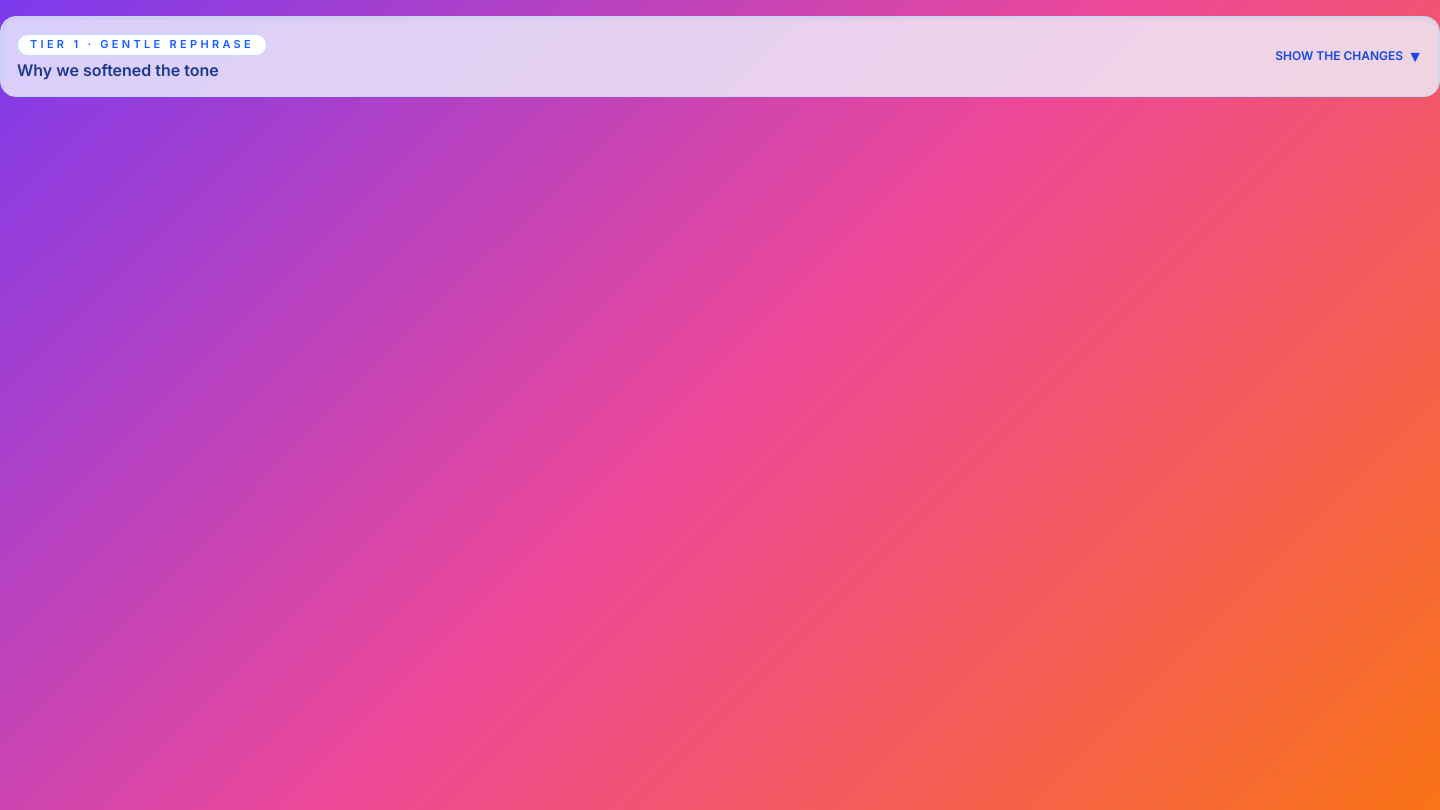
Test: ReframeExplanation › shows the English tier label and explanation
Expected: the text "Tier 1 · Gentle rephrase" is shown, [17,34,267,56]
Expected: the text "Why we softened the tone" is shown, [17,60,219,80]
Click the heading.
click(142, 45)  # box [17,33,1423,80]
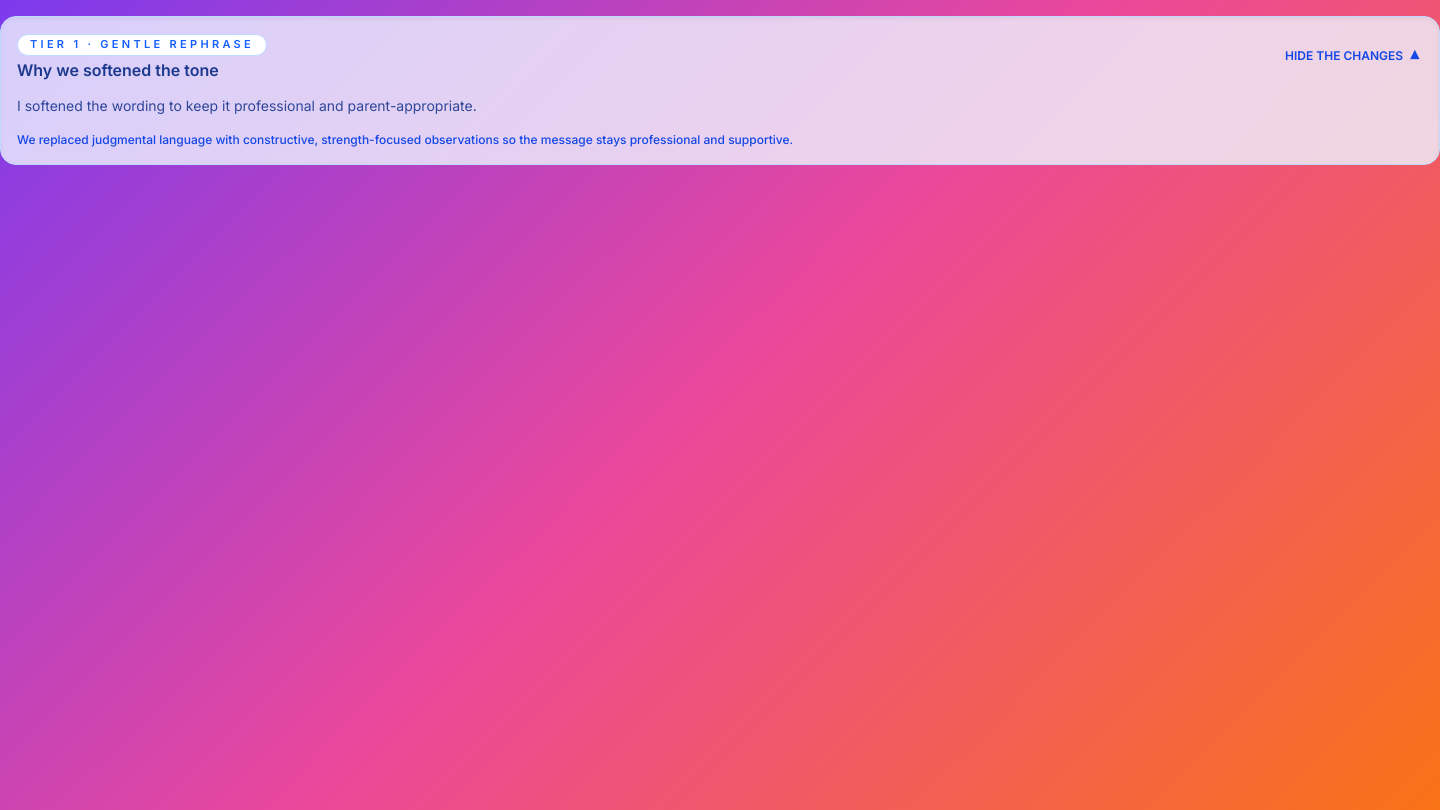
Now the text "I softened the wording to keep it professional and parent-appropriate." is shown, box [17,97,477,114]
